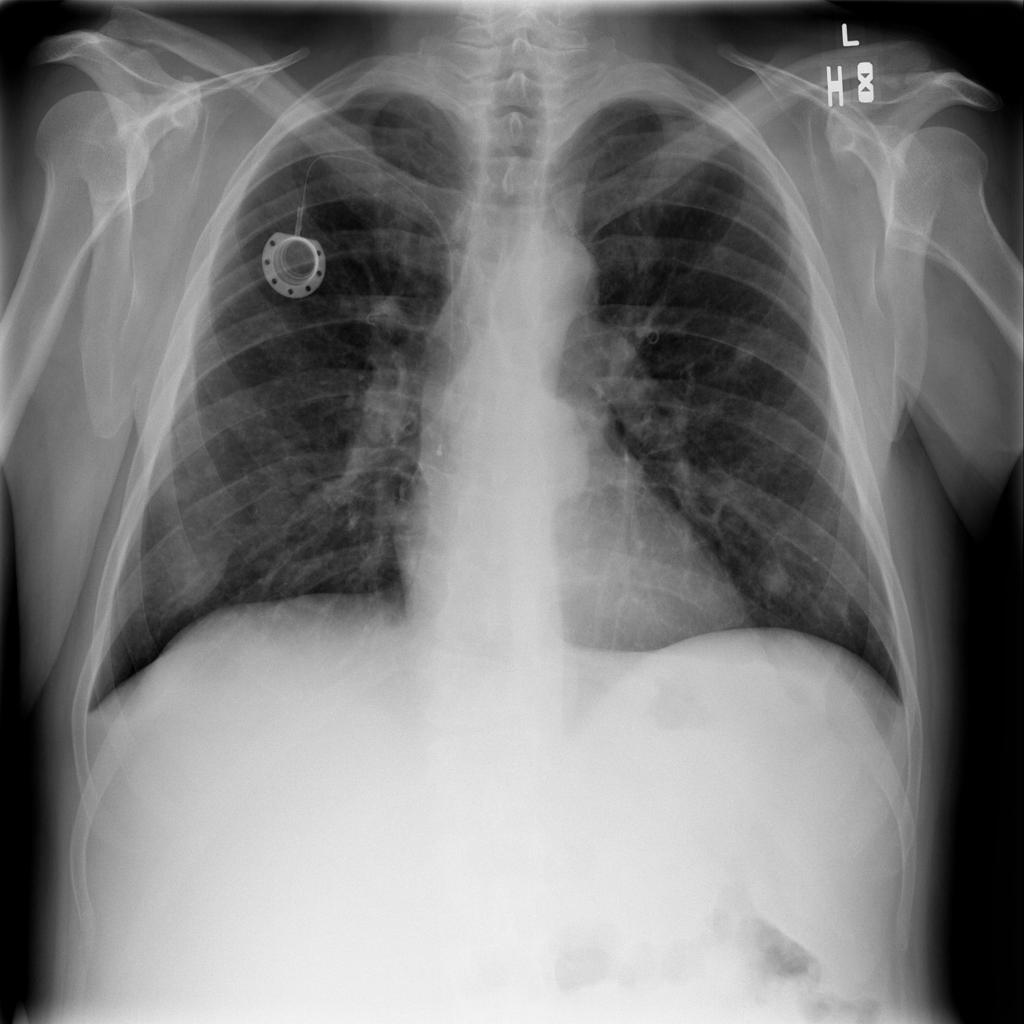nodule: (740, 541, 809, 614), (719, 316, 785, 389), (696, 223, 745, 277)
